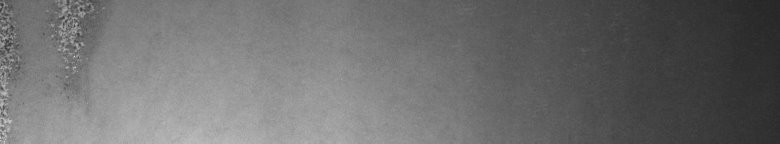hc: (4, 4, 104, 136)
